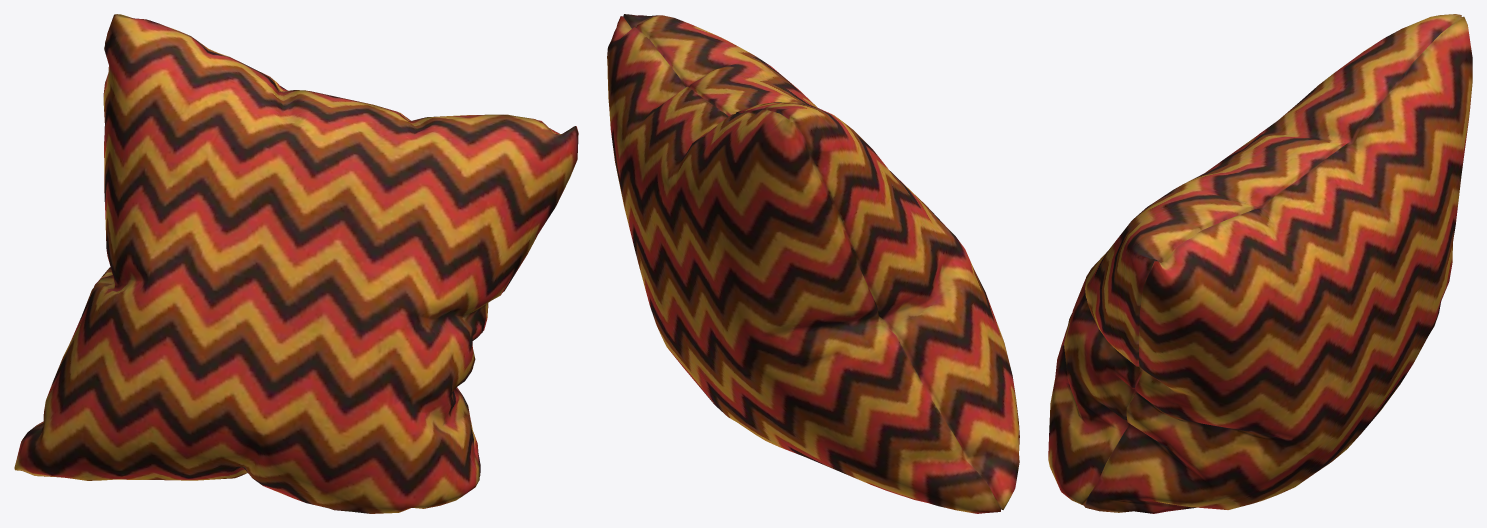
Rendered from throw_pillows_01_1.glb.
3 renders of one model, left to right at view 1: azimuth 30°, elevation 25°; view 2: azimuth 150°, elevation 25°; view 3: azimuth 270°, elevation 25°, orthographic. The views are drawn at different scales.
Visible parts, largest first — view 1: throw_pillows_01_pillow01; view 2: throw_pillows_01_pillow01; view 3: throw_pillows_01_pillow01.
Part boxes in pixels (x1,y1,x2,y2): throw_pillows_01_pillow01: (14, 14, 578, 513); throw_pillows_01_pillow01: (607, 14, 1019, 513); throw_pillows_01_pillow01: (1048, 14, 1472, 513).
Size of the model in its own units: 0.572 by 0.4502 by 0.4267.
Materials: 1 (1 with a texture image).
